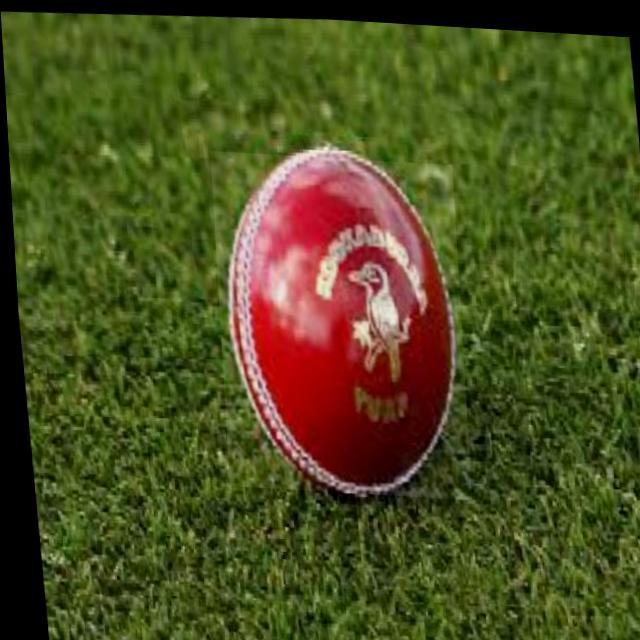Red_Ball: (209, 142, 480, 515)
